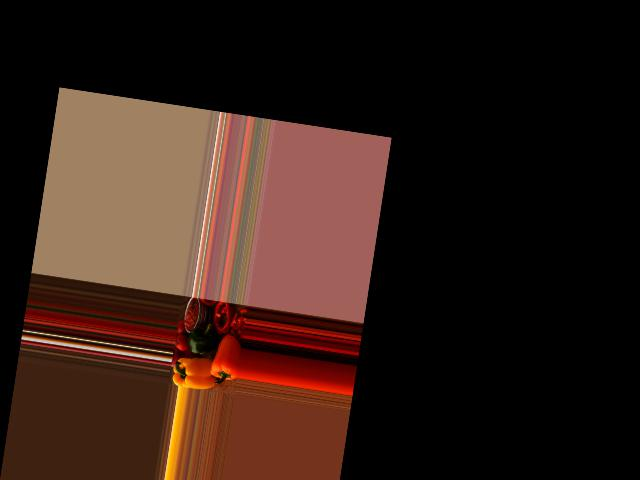bell_pepper: (171, 353, 211, 390)
